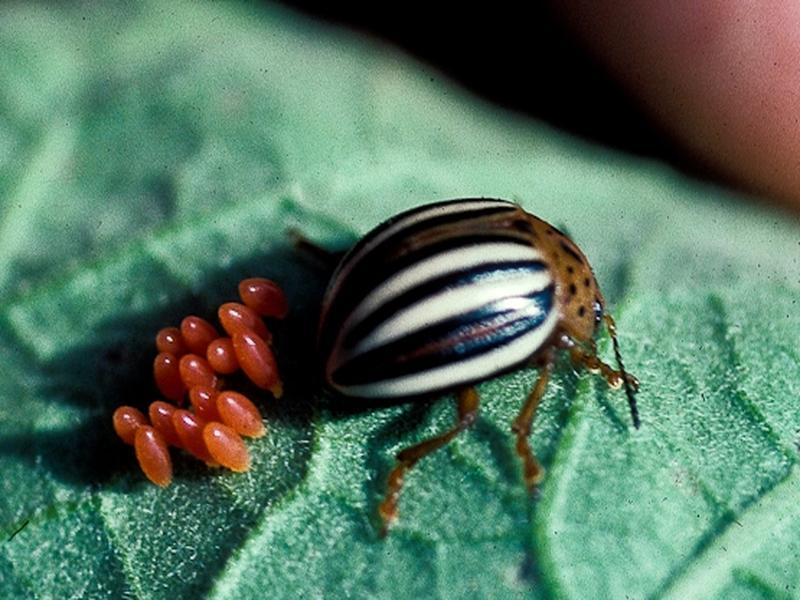hrosc: (304, 191, 651, 494)
